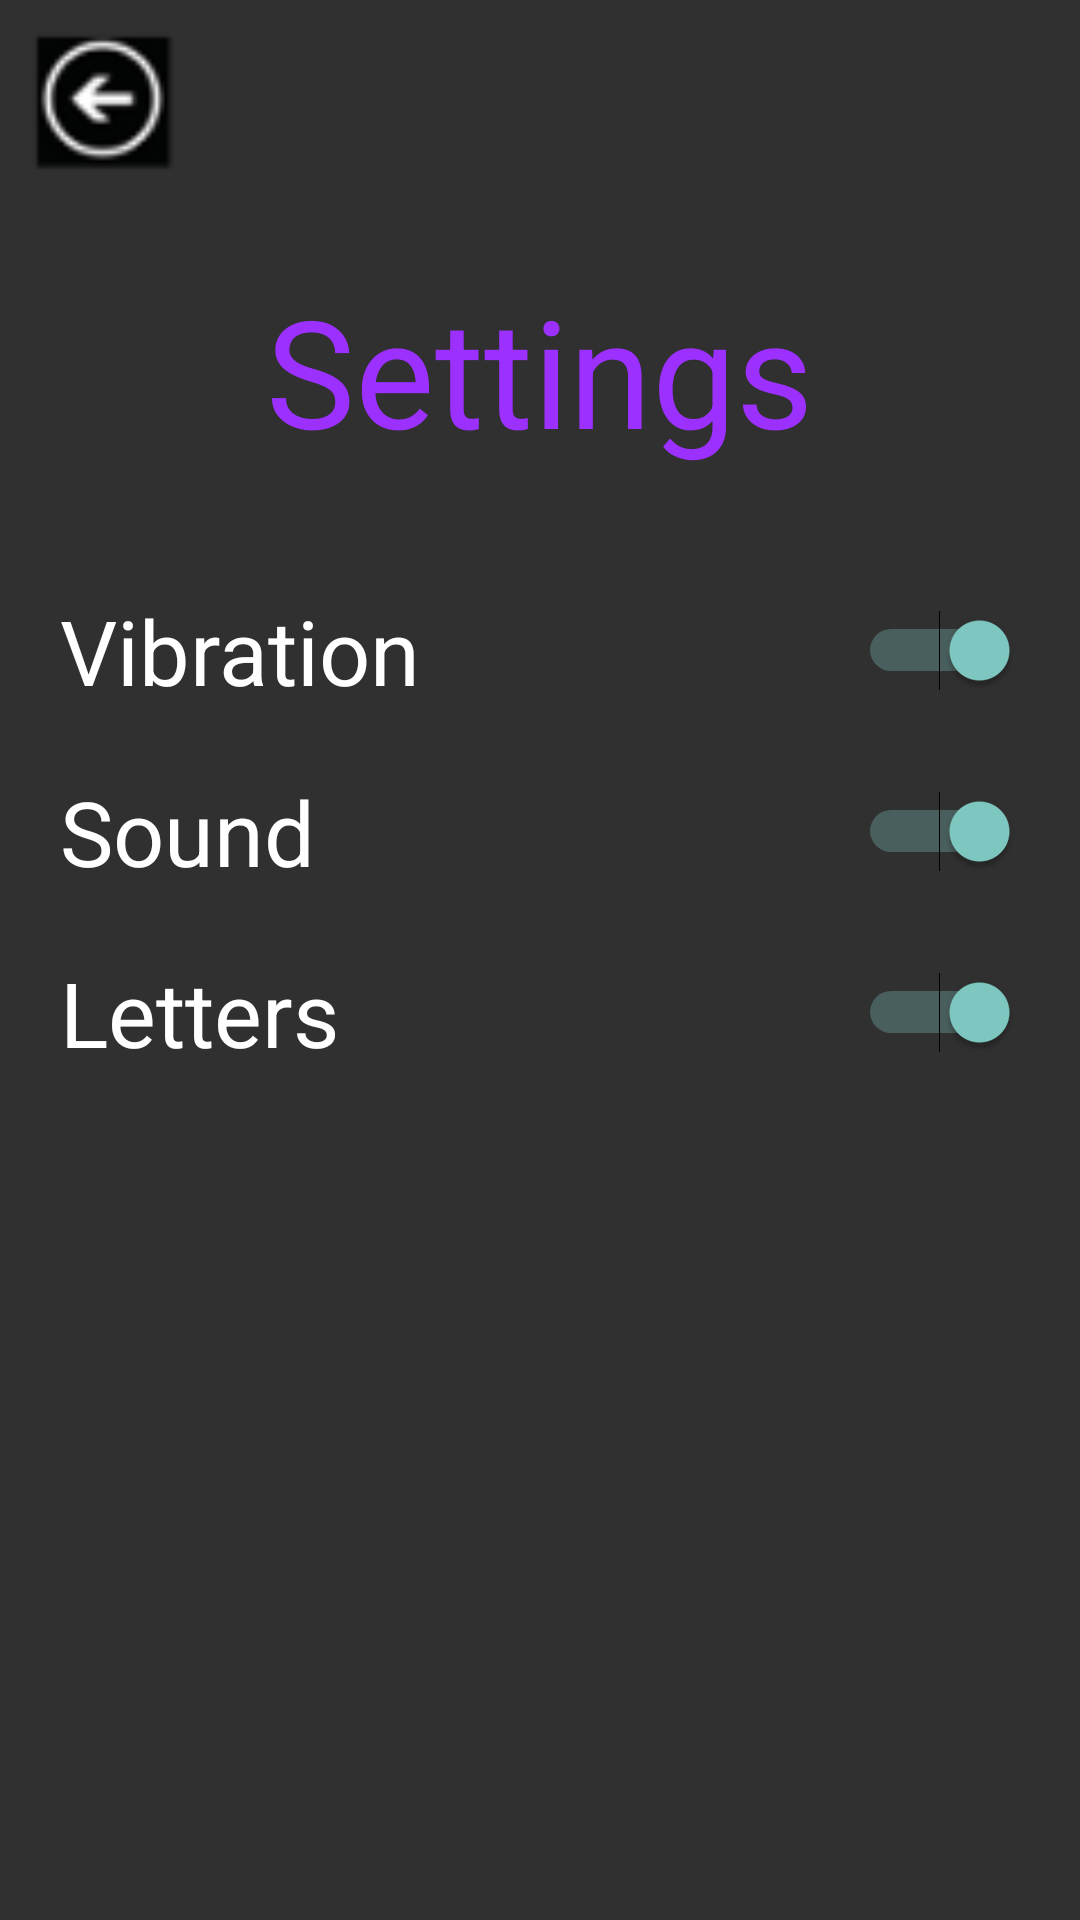

Icons on this 1080 x 1920 Android screen, each with the point to tap as [x,y]:
backbutton: [103,102]
